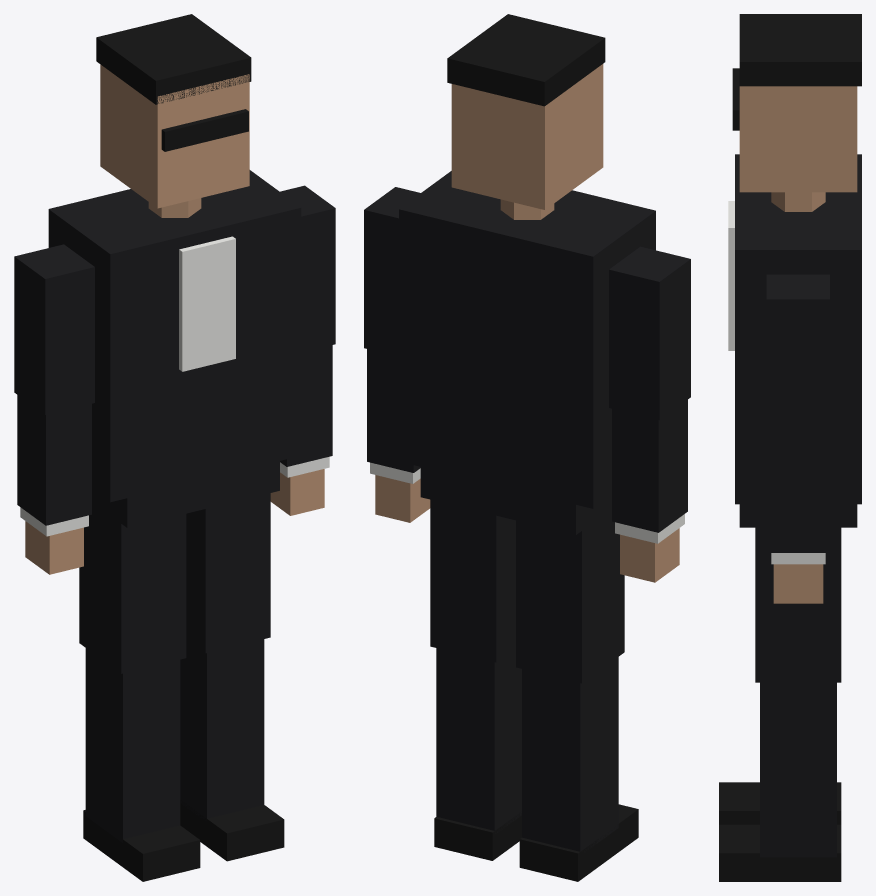
The model's file is goon.glb.
3 renders of one model, left to right at view 1: azimuth 30°, elevation 25°; view 2: azimuth 150°, elevation 25°; view 3: azimuth 270°, elevation 25°, orthographic. The views are drawn at different scales.
Parts seen in each view (by area): view 1: Torso, Head, LowerLeg_R, LowerLeg_L, UpperLeg_R, UpperArm_R, UpperLeg_L, LowerArm_R, LowerArm_L, UpperArm_L; view 2: Torso, Head, LowerLeg_R, LowerLeg_L, UpperLeg_R, UpperArm_R, UpperLeg_L, LowerArm_R, LowerArm_L, UpperArm_L; view 3: Torso, Head, LowerLeg_L, UpperArm_L, UpperLeg_L, LowerArm_L, LowerLeg_R.
Part boxes in pixels (x1,y1,x2,y2): Torso: [48, 170, 301, 527]; Head: [96, 14, 251, 217]; LowerLeg_R: [83, 648, 200, 881]; LowerLeg_L: [180, 639, 284, 861]; UpperLeg_R: [79, 502, 186, 673]; UpperArm_R: [14, 244, 94, 414]; UpperLeg_L: [186, 493, 270, 653]; LowerArm_R: [17, 395, 91, 574]; LowerArm_L: [270, 345, 332, 515]; UpperArm_L: [280, 185, 335, 352]; Torso: [399, 171, 655, 534]; Head: [447, 14, 605, 219]; LowerLeg_R: [519, 657, 638, 881]; LowerLeg_L: [434, 648, 521, 860]; UpperLeg_R: [516, 509, 624, 683]; UpperArm_R: [609, 246, 690, 420]; UpperLeg_L: [430, 499, 515, 662]; LowerArm_R: [612, 400, 687, 582]; LowerArm_L: [367, 349, 430, 522]; UpperArm_L: [364, 187, 420, 356]; Torso: [728, 154, 861, 527]; Head: [732, 14, 861, 211]; LowerLeg_L: [719, 682, 841, 881]; UpperArm_L: [766, 274, 829, 438]; UpperLeg_L: [755, 527, 841, 682]; LowerArm_L: [769, 439, 827, 603]; LowerLeg_R: [719, 782, 841, 824].
Bounding box in the file's own units: 0.76 × 1.97 × 0.315.
